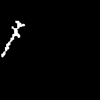double_crochet: (2, 21, 24, 56)
